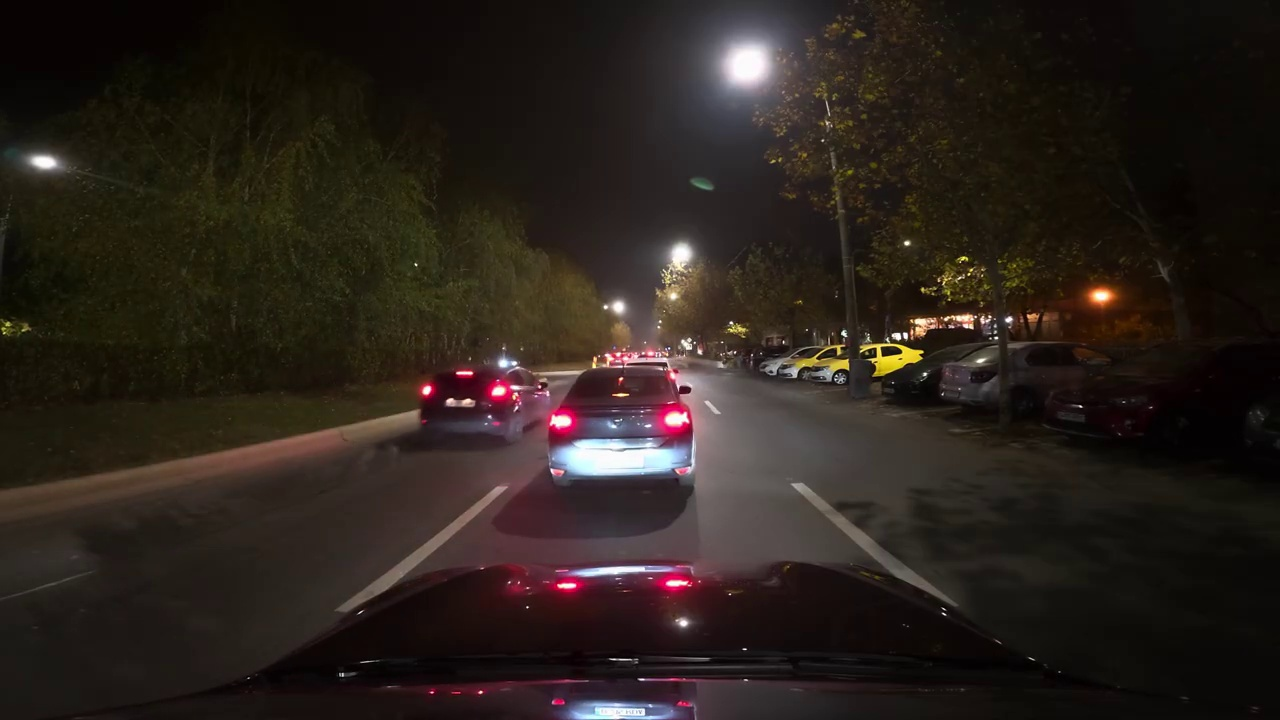acesa: (726, 45, 769, 85), (666, 241, 696, 271)
